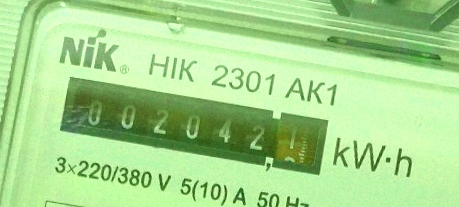0: (180, 109, 203, 142), (116, 99, 138, 133), (82, 95, 105, 127)
1: (282, 120, 300, 153)
2: (149, 105, 171, 137), (246, 120, 267, 152)
4: (213, 112, 236, 147)
screen: (52, 71, 334, 184)
